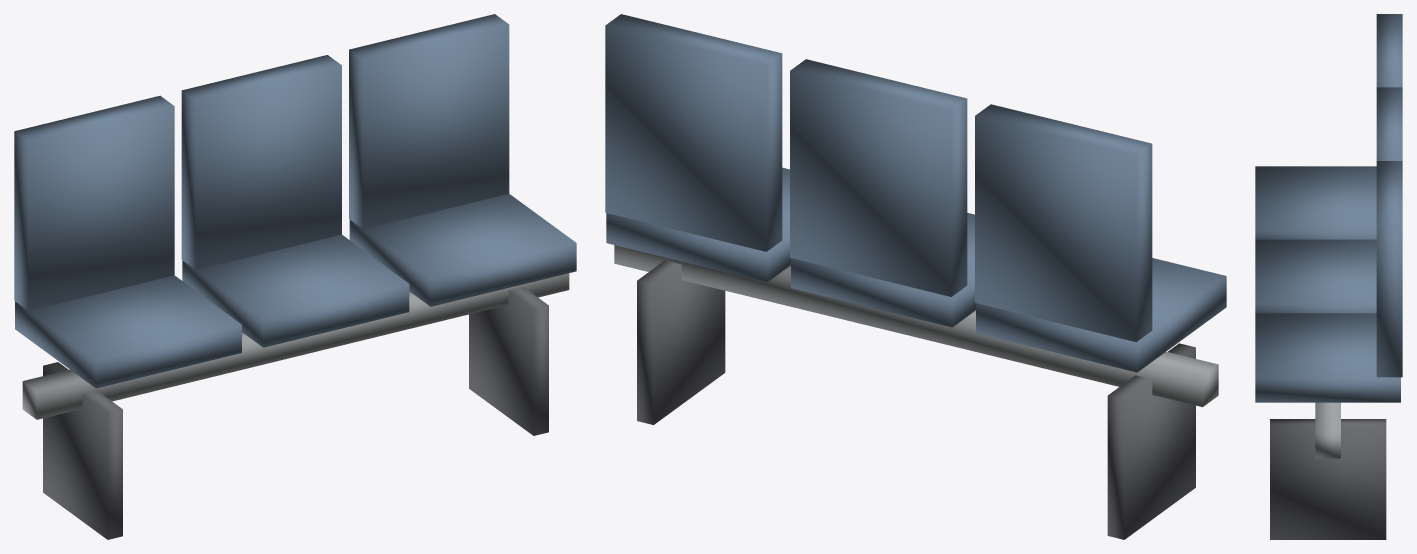
The model's file is waiting_chair_beam_row__compact.glb.
3 renders of one model, left to right at view 1: azimuth 30°, elevation 25°; view 2: azimuth 150°, elevation 25°; view 3: azimuth 270°, elevation 25°, orthographic. The views are drawn at different scales.
Visible parts, largest first — view 1: world; view 2: world; view 3: world.
Boxes of the visible parts, x1,y1,x2,y2 form: world: [14, 14, 576, 539]; world: [605, 14, 1226, 539]; world: [1255, 14, 1402, 539].
Size of the model in its own units: 1.47 by 0.9486 by 0.3913.
